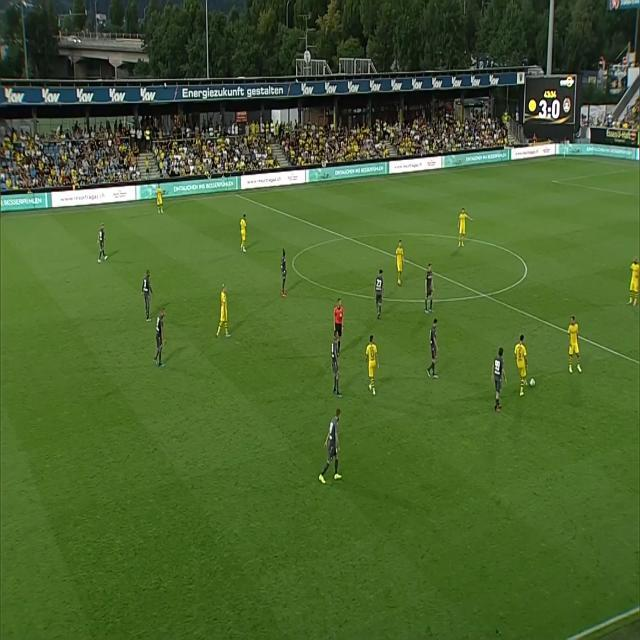ball: (528, 375, 541, 389)
player: (318, 409, 346, 487), (326, 331, 345, 399), (564, 316, 585, 376), (361, 335, 381, 395), (423, 316, 441, 380), (490, 346, 506, 409), (152, 309, 169, 368), (215, 281, 232, 340), (515, 328, 527, 404), (139, 264, 154, 324), (373, 267, 386, 319), (423, 260, 435, 314), (277, 245, 289, 297), (628, 257, 640, 309), (457, 207, 471, 250), (395, 240, 405, 288), (238, 213, 248, 254), (99, 222, 108, 264), (155, 184, 165, 219)
referee: (331, 295, 346, 357)
